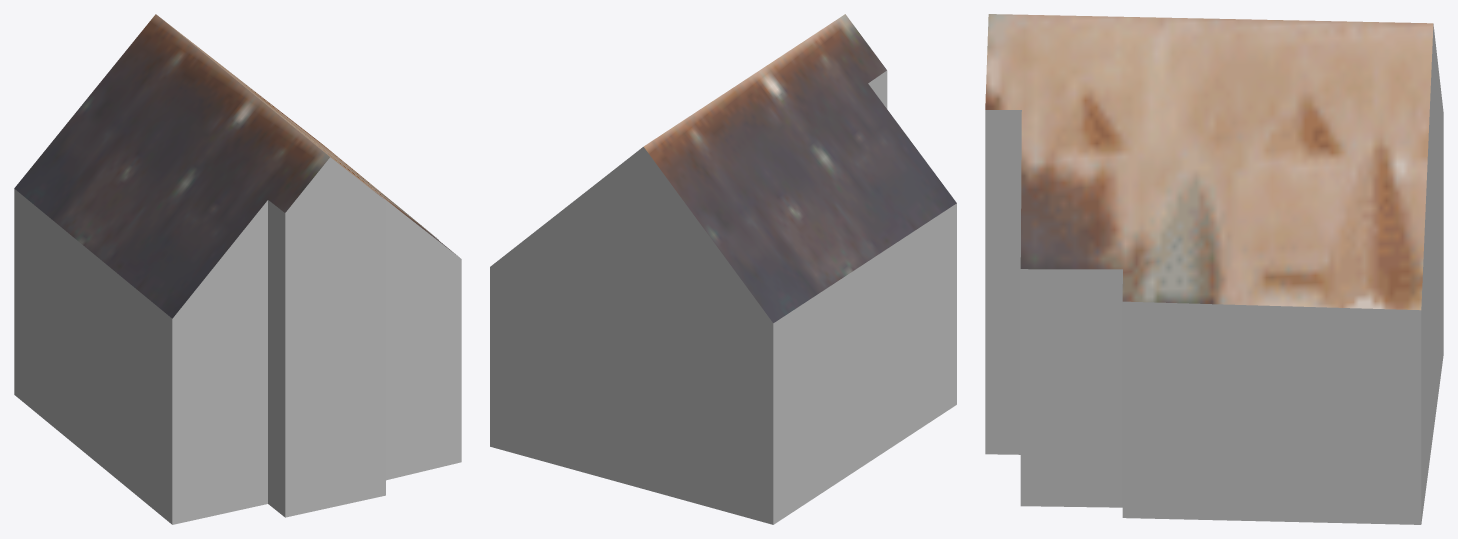
File: DEBW_0010007Tvks.gltf
The picture shows the model from 3 angles, left to right: view 1: azimuth 30°, elevation 25°; view 2: azimuth 150°, elevation 25°; view 3: azimuth 270°, elevation 25°; orthographic projection. The views are drawn at different scales.
Visible parts, largest first — view 1: Z_UP; view 2: Z_UP; view 3: Z_UP.
Boxes of the visible parts, left/top/right/bottom form: Z_UP: left=14, top=14, right=461, bottom=524; Z_UP: left=490, top=14, right=956, bottom=524; Z_UP: left=985, top=14, right=1443, bottom=524.
Size of the model in its own units: 15.53 by 16.55 by 16.8.
2 materials, 1 textured.
